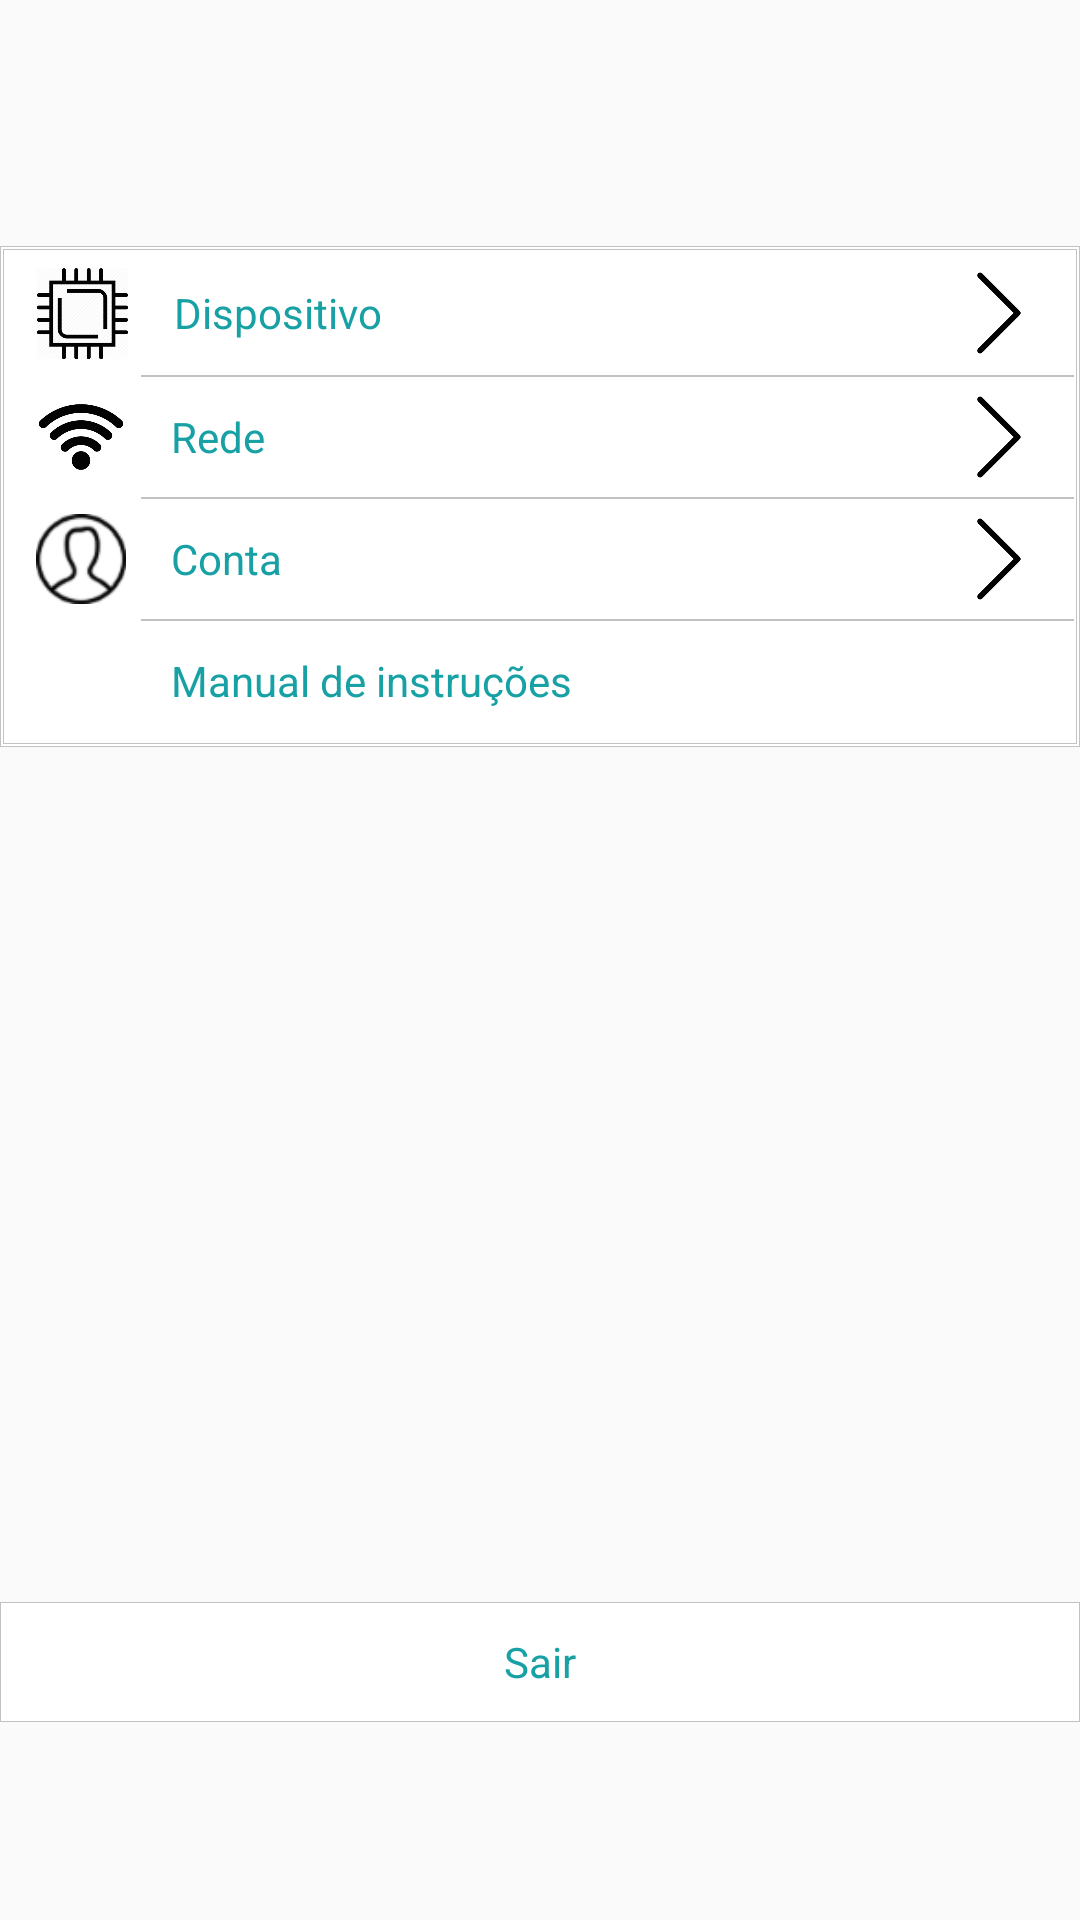

Where to tap for icons on this 1080×1920 app screen, as point (x, y):
network: point (81, 437)
processor: point (82, 313)
right arrow: point (999, 313), point (999, 437), point (999, 559)
user: point (81, 559)
